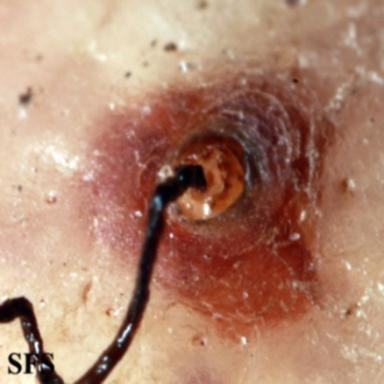Tungiasis: (76, 63, 330, 383), (0, 297, 62, 383)
